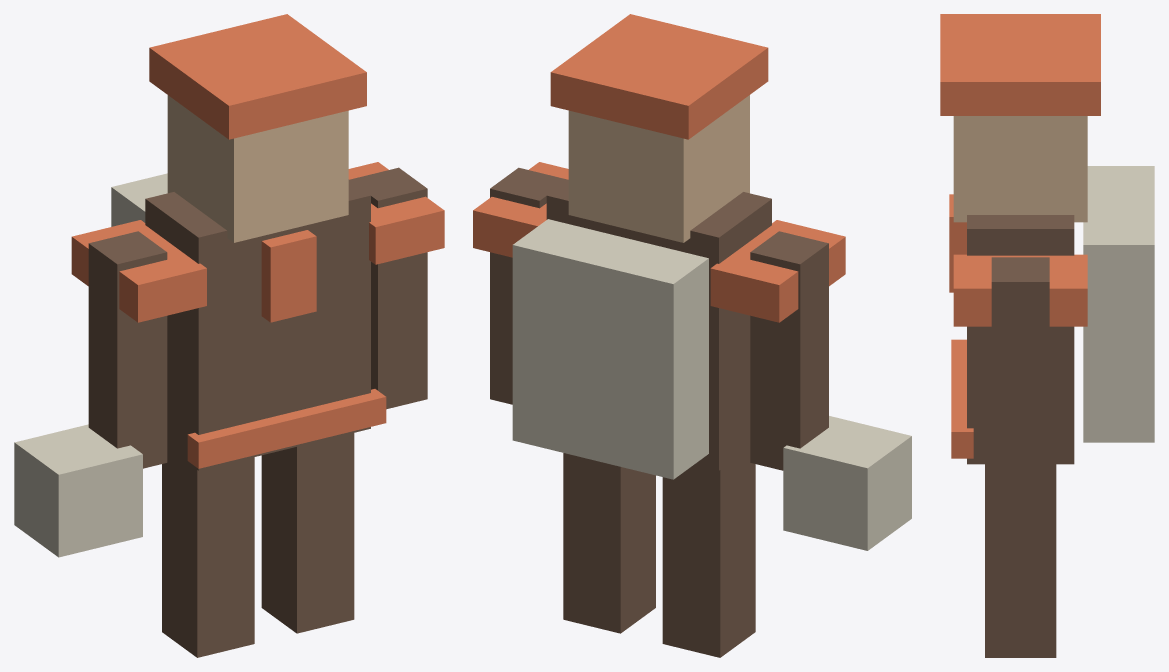
The model's file is 03_bryn_echohand_cartographer_at_glyph.glb.
3 views of the same model, side by side, from view 1: azimuth 30°, elevation 25°; view 2: azimuth 150°, elevation 25°; view 3: azimuth 270°, elevation 25° (orthographic).
Parts seen in each view (by area): view 1: Bryn Echohand, Cartographer at Glyph; view 2: Bryn Echohand, Cartographer at Glyph; view 3: Bryn Echohand, Cartographer at Glyph.
Boxes of the visible parts, x1,y1,x2,y2 form: Bryn Echohand, Cartographer at Glyph: (14, 14, 444, 657); Bryn Echohand, Cartographer at Glyph: (473, 14, 911, 657); Bryn Echohand, Cartographer at Glyph: (940, 14, 1154, 657).
Size of the model in its own units: 1.01 by 1.44 by 0.4887.
